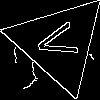V: (33, 18, 89, 63)
